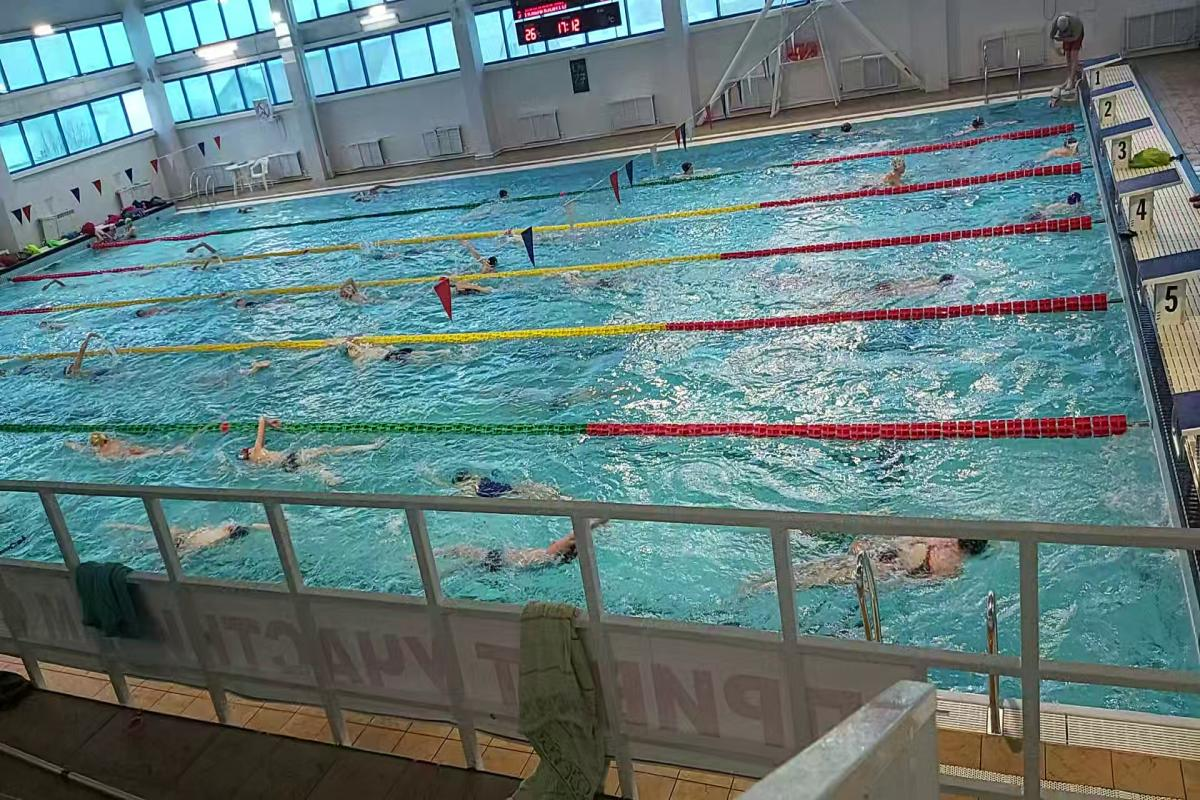swimmer: (746, 537, 984, 587), (404, 532, 590, 595), (226, 421, 368, 485), (103, 517, 273, 560), (74, 427, 195, 474), (447, 463, 573, 499), (341, 343, 461, 366), (64, 339, 118, 382), (456, 238, 512, 276), (1036, 188, 1096, 222), (333, 277, 383, 310), (878, 154, 918, 183), (1050, 133, 1088, 160)
